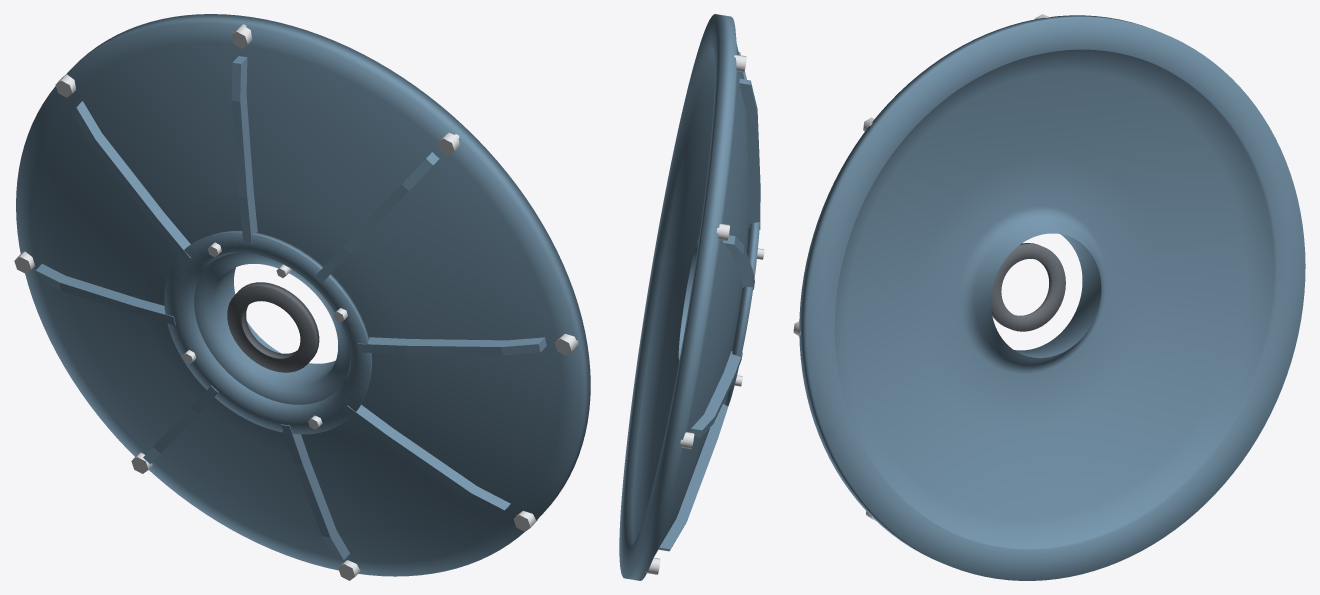
File: induction_endShieldDE.glb
The picture shows the model from 3 angles, left to right: view 1: azimuth 30°, elevation 25°; view 2: azimuth 150°, elevation 25°; view 3: azimuth 270°, elevation 25°; orthographic projection. The views are drawn at different scales.
Size of the model in its own units: 0.4976 by 0.8968 by 0.8064.
